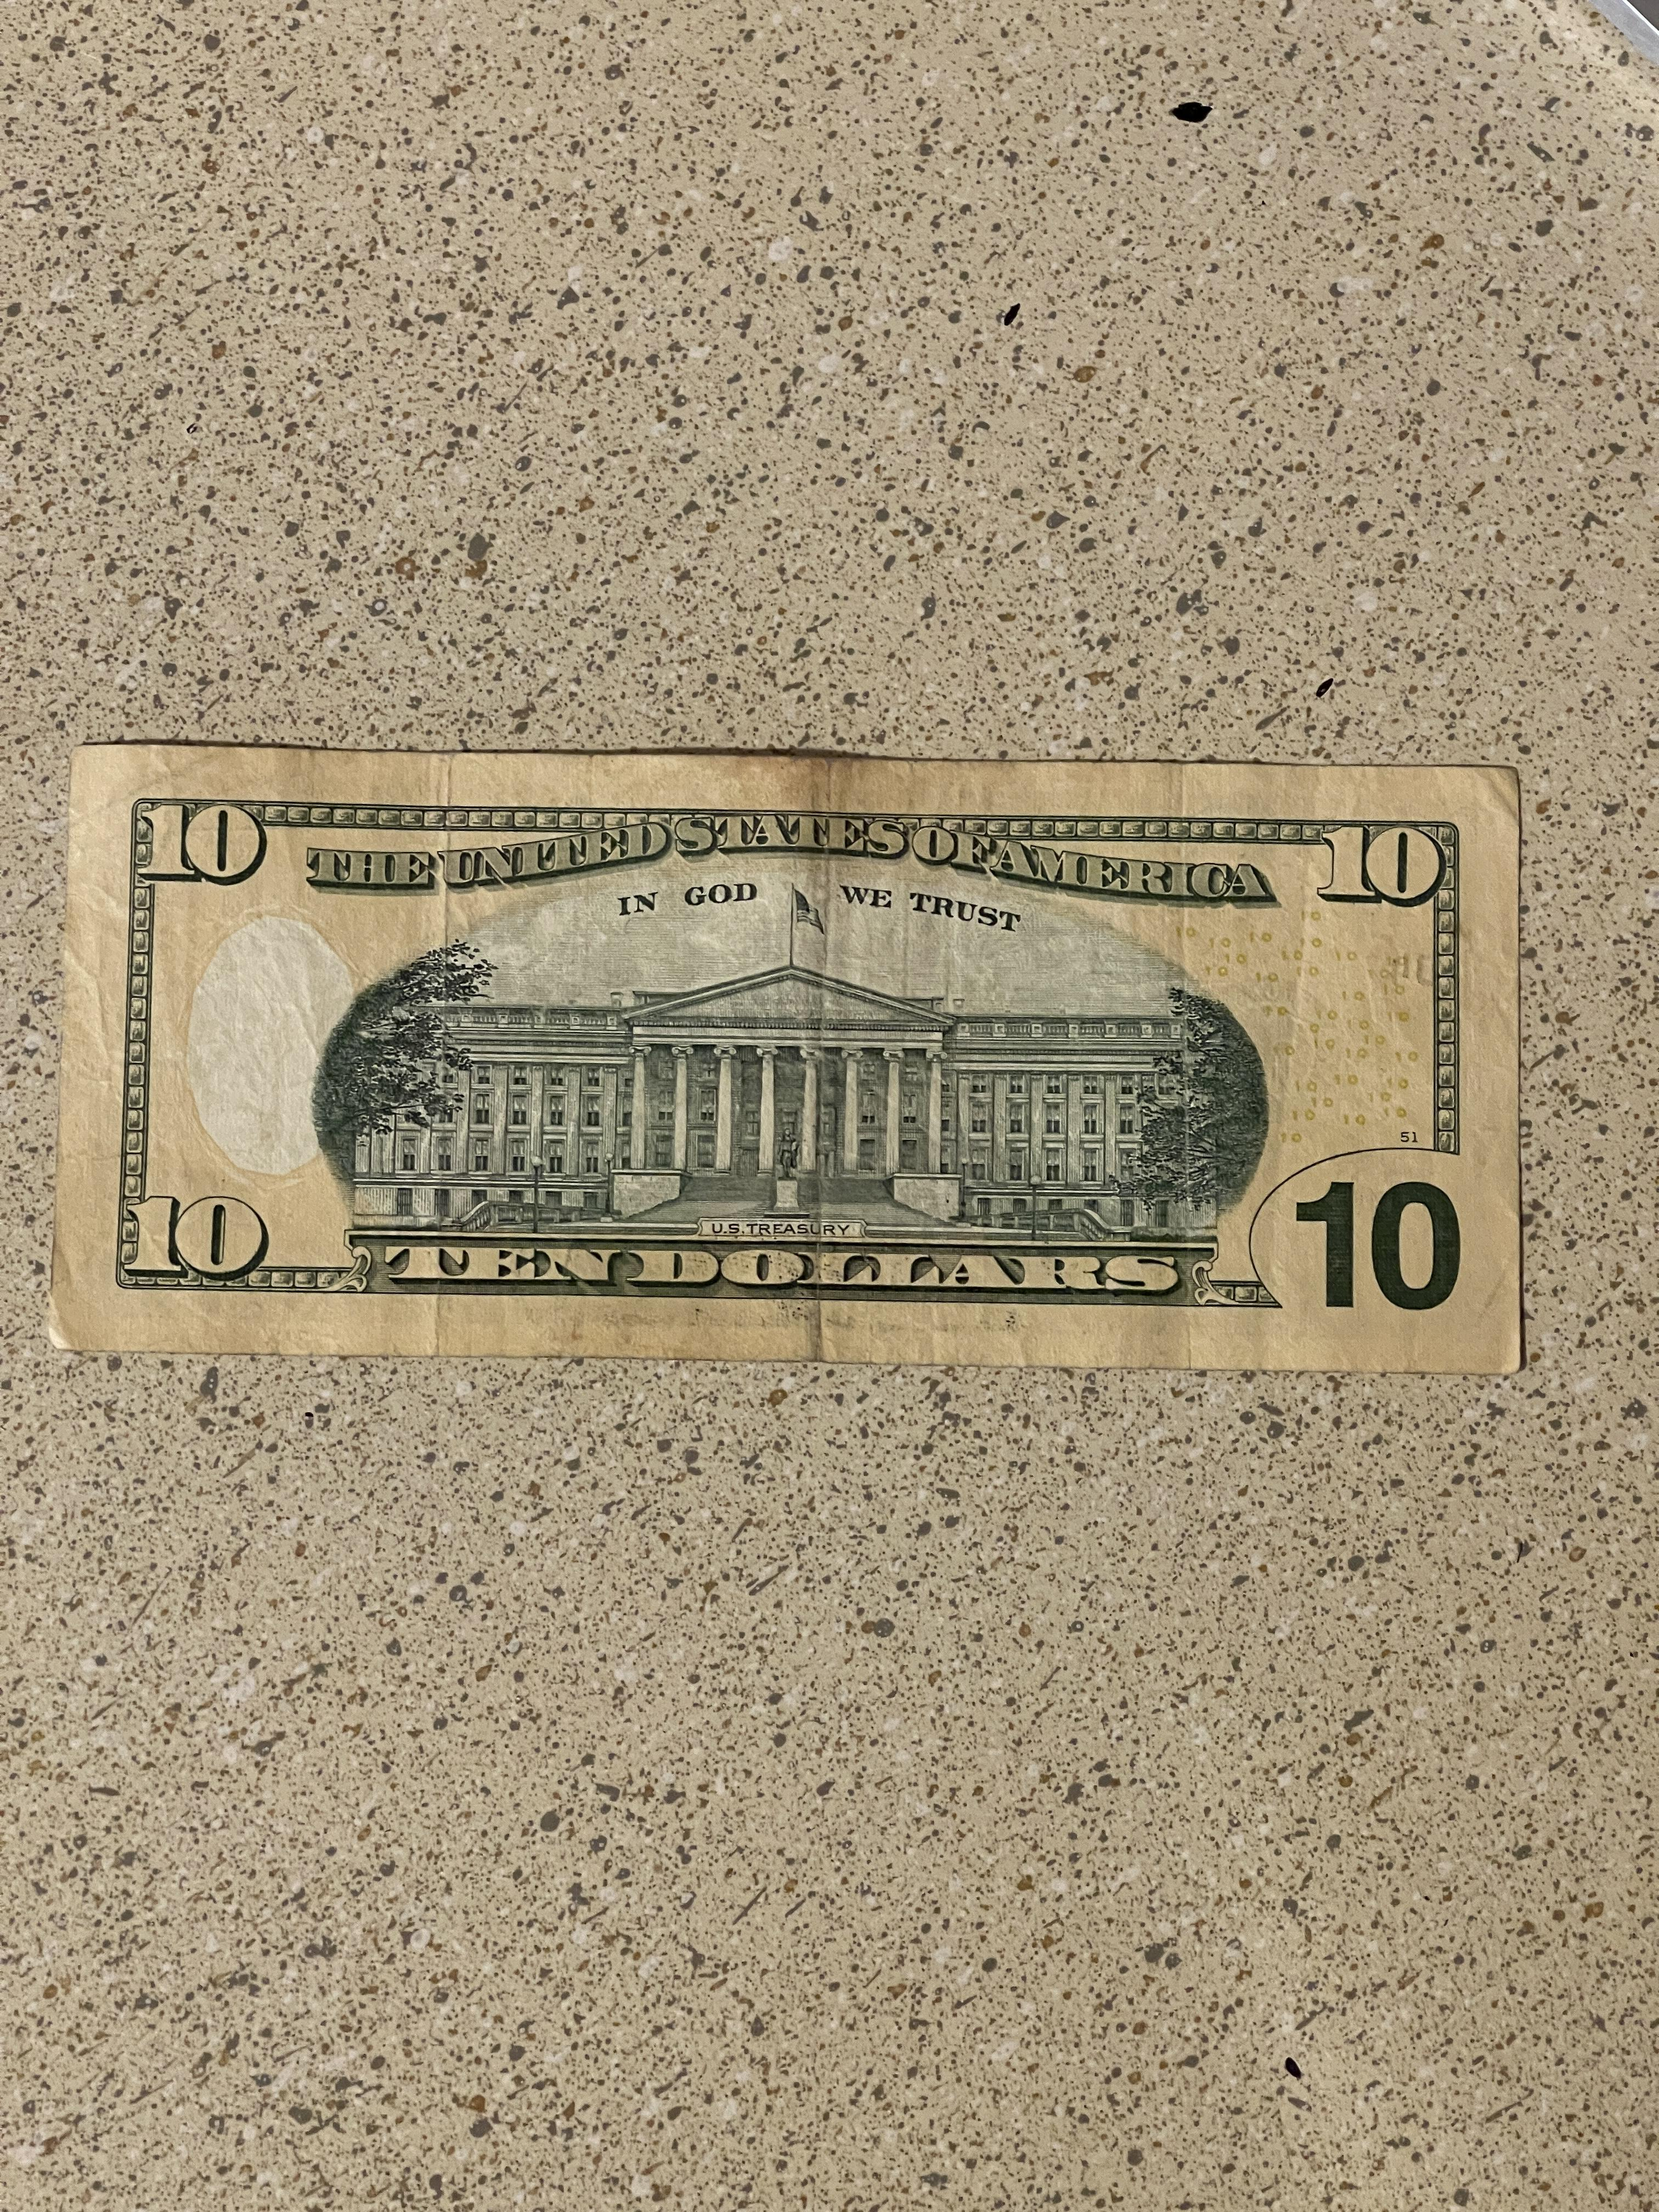TenBill: (45, 737, 1527, 1381)
